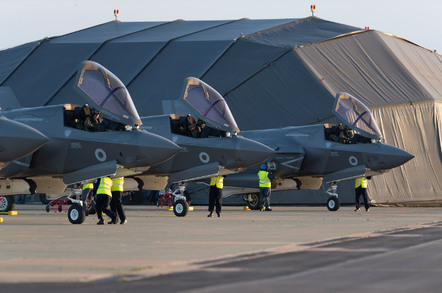F-35 Lightning: (3, 57, 193, 237), (151, 75, 288, 200), (276, 98, 420, 210)
